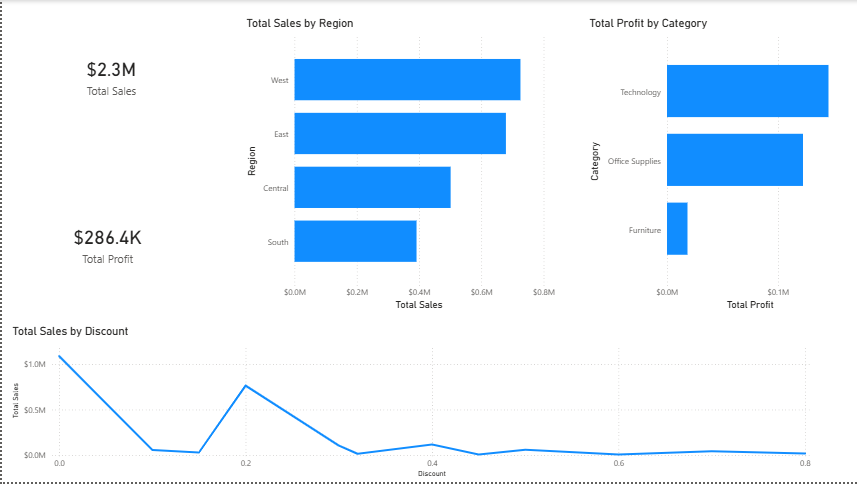

The dashboard page shown, as its layout file describes it:
{"tool":"powerbi","page":{"name":"Page 1","canvas":[1280,720],"ordinal":0},"visuals":[{"type":"card","fields":{"Values":["SampleSuperstore.Total Sales"]},"box":[10.1,0,305.6,222.9],"z":0},{"type":"card","fields":{"Values":["SampleSuperstore.Total Profit"]},"box":[0,222.9,315.8,280.3],"z":1},{"type":"barChart","fields":{"Category":["SampleSuperstore.Region"],"Y":["SampleSuperstore.Total Sales"]},"box":[359.7,23.6,471.1,444.1],"z":2},{"type":"barChart","fields":{"Category":["SampleSuperstore.Category"],"Y":["SampleSuperstore.Total Profit"]},"box":[873,23.6,391.8,444.1],"z":3},{"type":"lineChart","fields":{"Y":["SampleSuperstore.Total Sales"],"Category":["SampleSuperstore.Discount"]},"box":[10.1,484.6,1204,234.7],"z":4}]}

Visuals, with their boxes in screenshot pixels (x1, y1, x2, y2), scaled from the page's 1280x720 canvas onto the 857x486 screenshot:
card - SampleSuperstore.Total Sales: <box>7,0,211,150</box>
card - SampleSuperstore.Total Profit: <box>0,150,211,340</box>
barChart - SampleSuperstore.Region x SampleSuperstore.Total Sales: <box>241,16,556,316</box>
barChart - SampleSuperstore.Category x SampleSuperstore.Total Profit: <box>585,16,847,316</box>
lineChart - SampleSuperstore.Total Sales x SampleSuperstore.Discount: <box>7,327,813,485</box>
